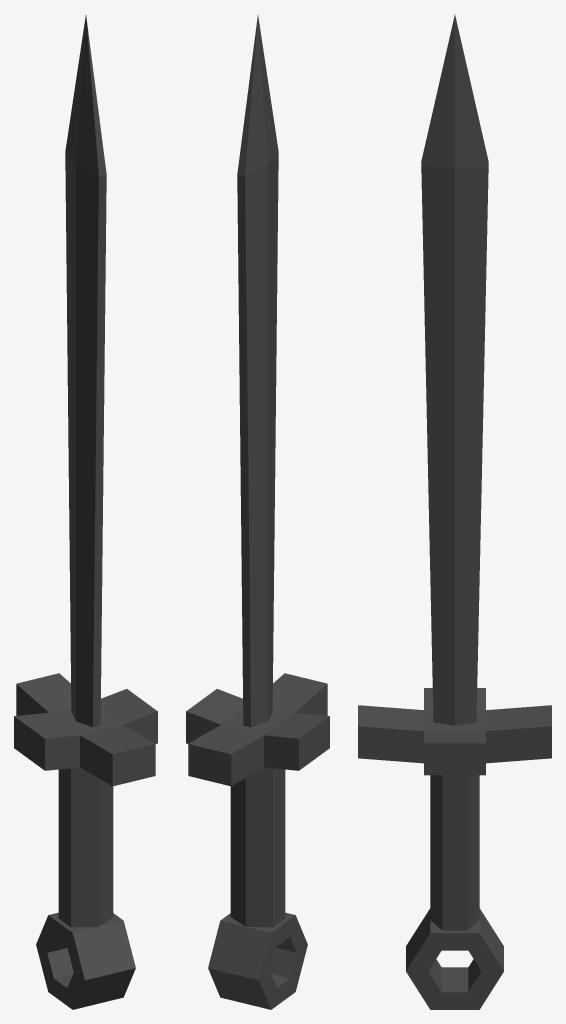
File: BlackSword.fbx
The picture shows the model from 3 angles, left to right: view 1: azimuth 30°, elevation 25°; view 2: azimuth 150°, elevation 25°; view 3: azimuth 270°, elevation 25°; orthographic projection.
Parts seen in each view (by area): view 1: BS Blade, BS Crossguard, BS Handle, BS Pummel; view 2: BS Blade, BS Crossguard, BS Handle, BS Pummel; view 3: BS Blade, BS Crossguard, BS Handle, BS Pummel.
Boxes of the visible parts, x1,y1,x2,y2 form: BS Blade: (65, 15, 106, 727); BS Crossguard: (14, 673, 157, 786); BS Handle: (58, 767, 113, 927); BS Pummel: (36, 912, 135, 1009); BS Blade: (237, 15, 278, 727); BS Crossguard: (186, 673, 329, 786); BS Handle: (230, 767, 285, 927); BS Pummel: (208, 912, 307, 1009); BS Blade: (421, 15, 488, 725); BS Crossguard: (358, 688, 551, 775); BS Handle: (430, 775, 479, 930); BS Pummel: (406, 908, 503, 1009).
Bounding box in the file's own units: 13.28 × 110 × 19.71.
Materials: 1 (1 with a texture image).
